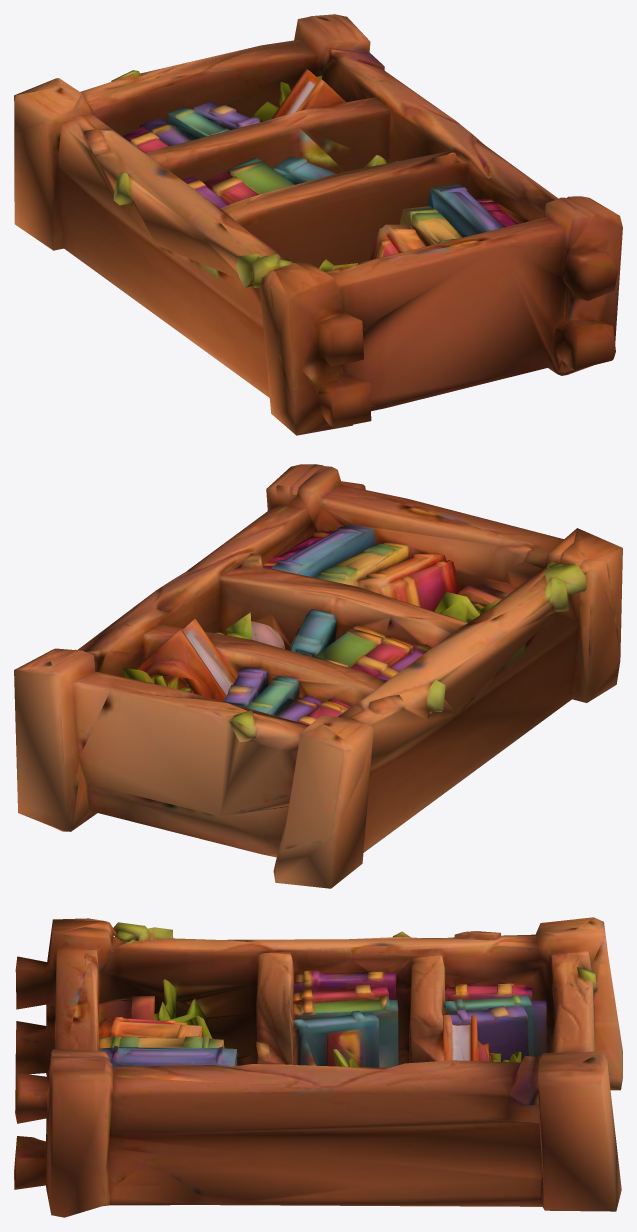
3 views of the same model, one above another, from view 1: azimuth 30°, elevation 25°; view 2: azimuth 150°, elevation 25°; view 3: azimuth 270°, elevation 25° (orthographic).
Visible parts, largest first — view 1: material; view 2: material; view 3: material.
Boxes of the visible parts, x1,y1,x2,y2 form: material: [14, 14, 622, 435]; material: [14, 464, 622, 888]; material: [14, 917, 622, 1217].
Size of the model in its own units: 0.6417 by 0.2931 by 1.
1 material, 1 textured.
